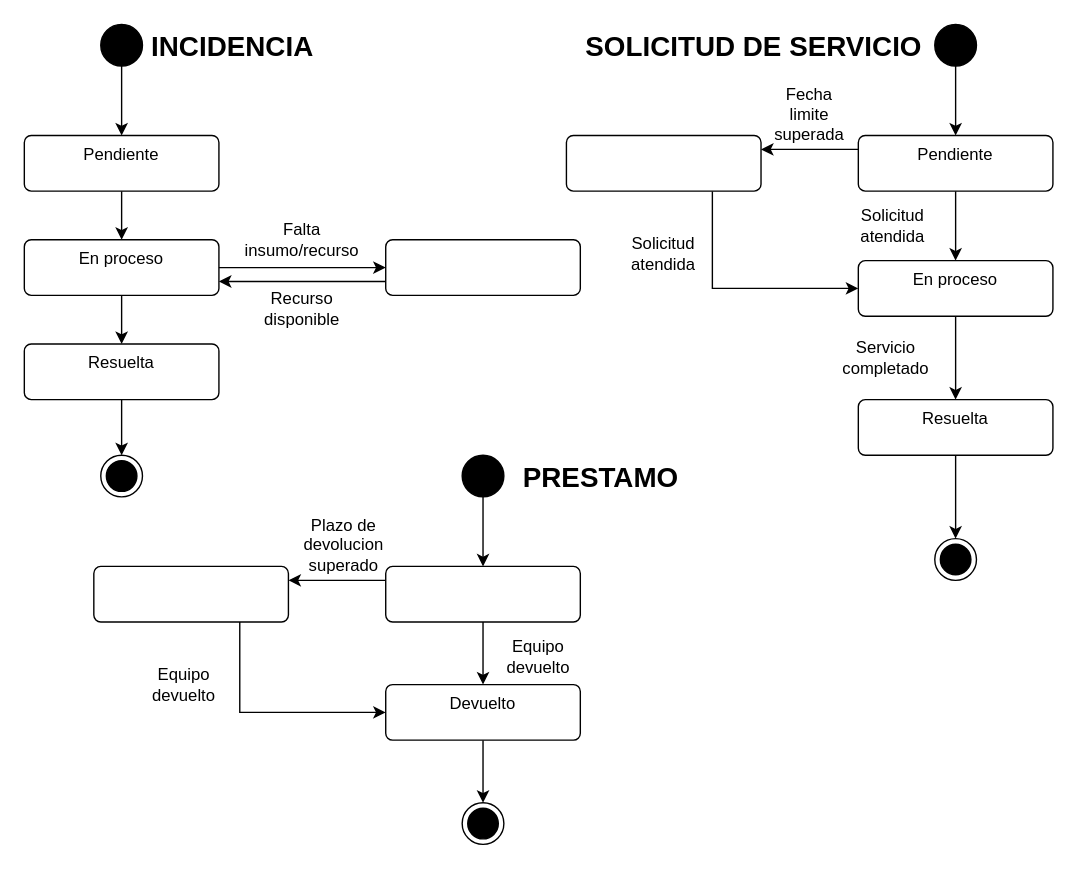
Image size: 1077x869. Some labels were removed from this diagram. The shapes that lost their labels are listed below. From the top down, each one's centre as x and y in pixels, then its label:
the point at 663,162: Atrasada
the point at 482,266: Pendiente por recurso
the point at 190,593: Devolucion atrasada
the point at 482,593: Activo
